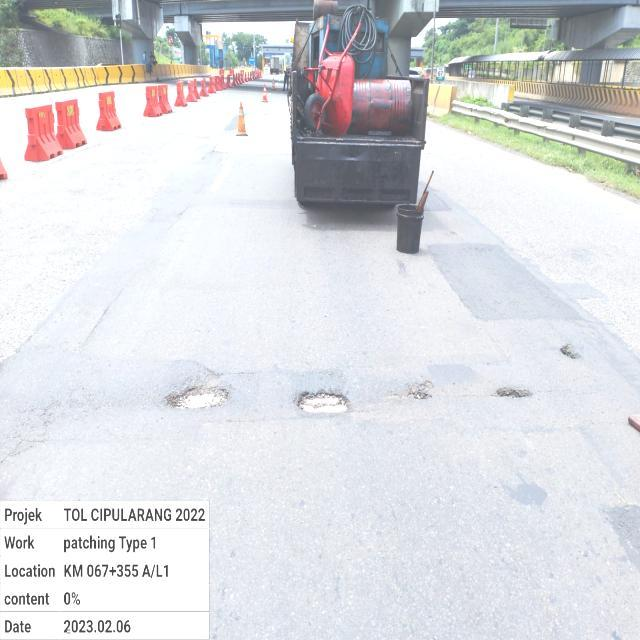Buraco: (162, 382, 231, 412), (294, 387, 355, 416), (399, 378, 436, 402), (488, 384, 534, 400), (558, 341, 584, 361)
